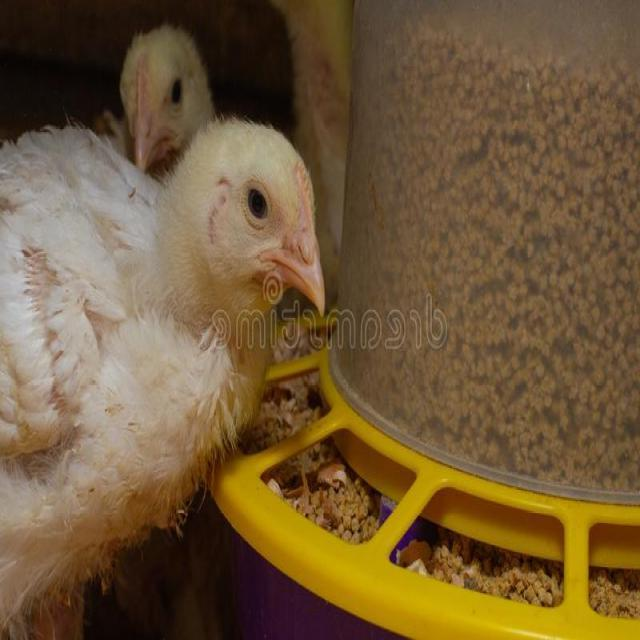poussin: (0, 122, 325, 639), (102, 32, 214, 202)
